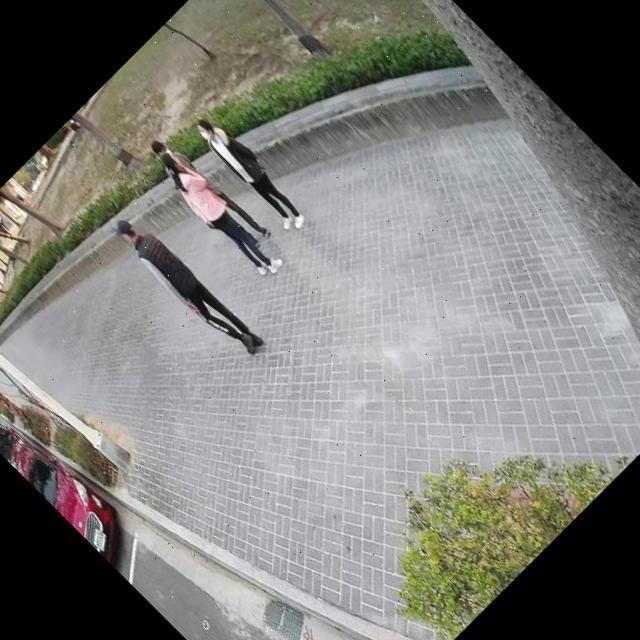person: (101, 198, 273, 370), (144, 138, 290, 284), (180, 102, 318, 240), (144, 122, 274, 252)
